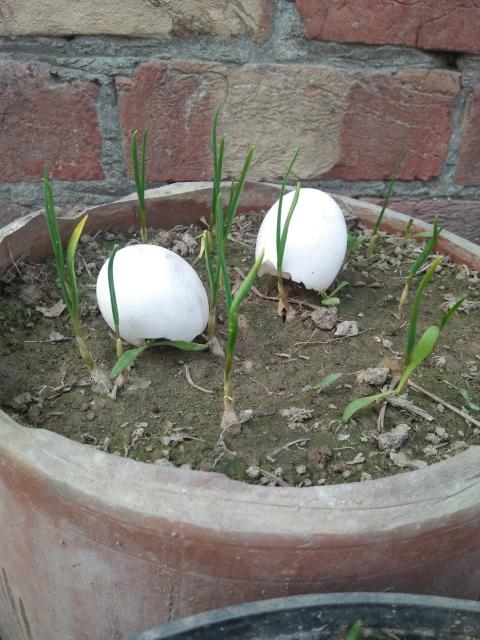Roto: (95, 242, 210, 347), (254, 186, 348, 292)
